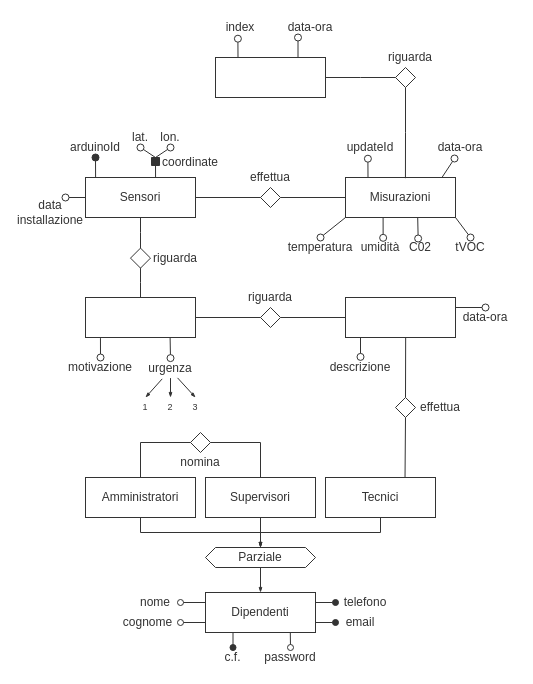
This 533x684 diagram has some shape labels left out. The centre of each missing label's shape, as x and y in pixels:
"Fire Index" belongs at point (270, 77).
"Interventi" belongs at point (400, 317).
"Richieste Intervento" belongs at point (140, 317).
